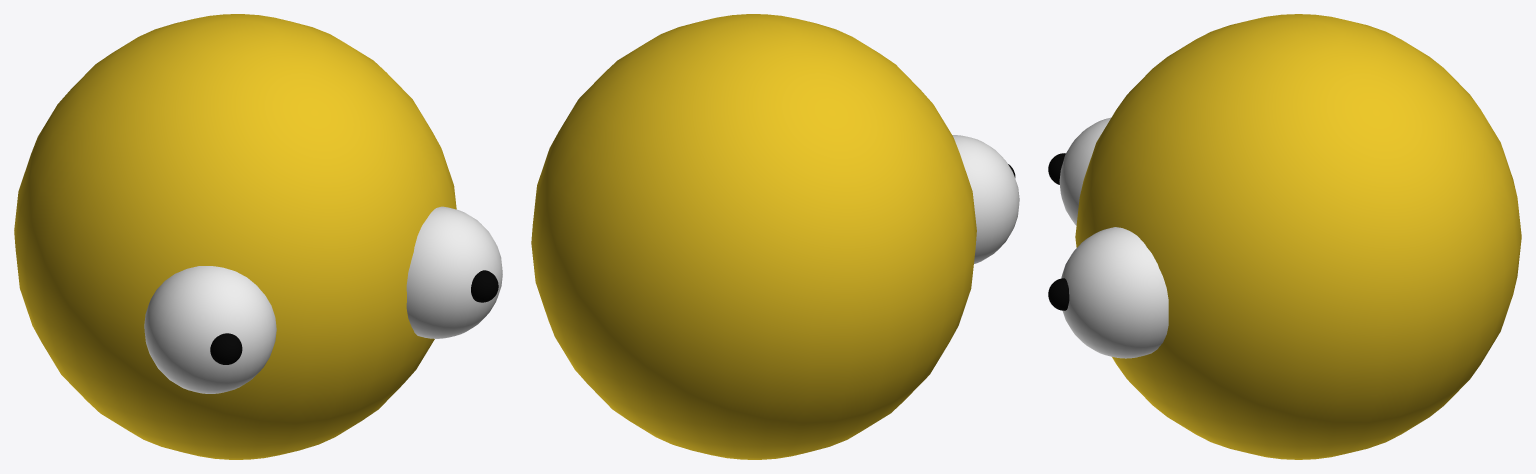
File: hero.glb
3 views of the same model, side by side, from view 1: azimuth 30°, elevation 25°; view 2: azimuth 150°, elevation 25°; view 3: azimuth 270°, elevation 25° (orthographic).
Visible parts, largest first — view 1: base, eye01, eye02, pupil01, pupil02; view 2: base, eye01; view 3: base, eye02, eye01, pupil02.
Boxes of the visible parts, x1,y1,x2,y2 form: base: (14, 14, 456, 459); eye01: (144, 266, 276, 393); eye02: (406, 206, 502, 338); pupil01: (210, 333, 242, 364); pupil02: (471, 270, 498, 302); base: (531, 14, 976, 459); eye01: (952, 135, 1019, 263); base: (1075, 14, 1521, 459); eye02: (1061, 227, 1168, 358); eye01: (1059, 117, 1110, 225); pupil02: (1048, 278, 1069, 310).
Size of the model in its own units: 0.9703 by 0.9703 by 1.03.
